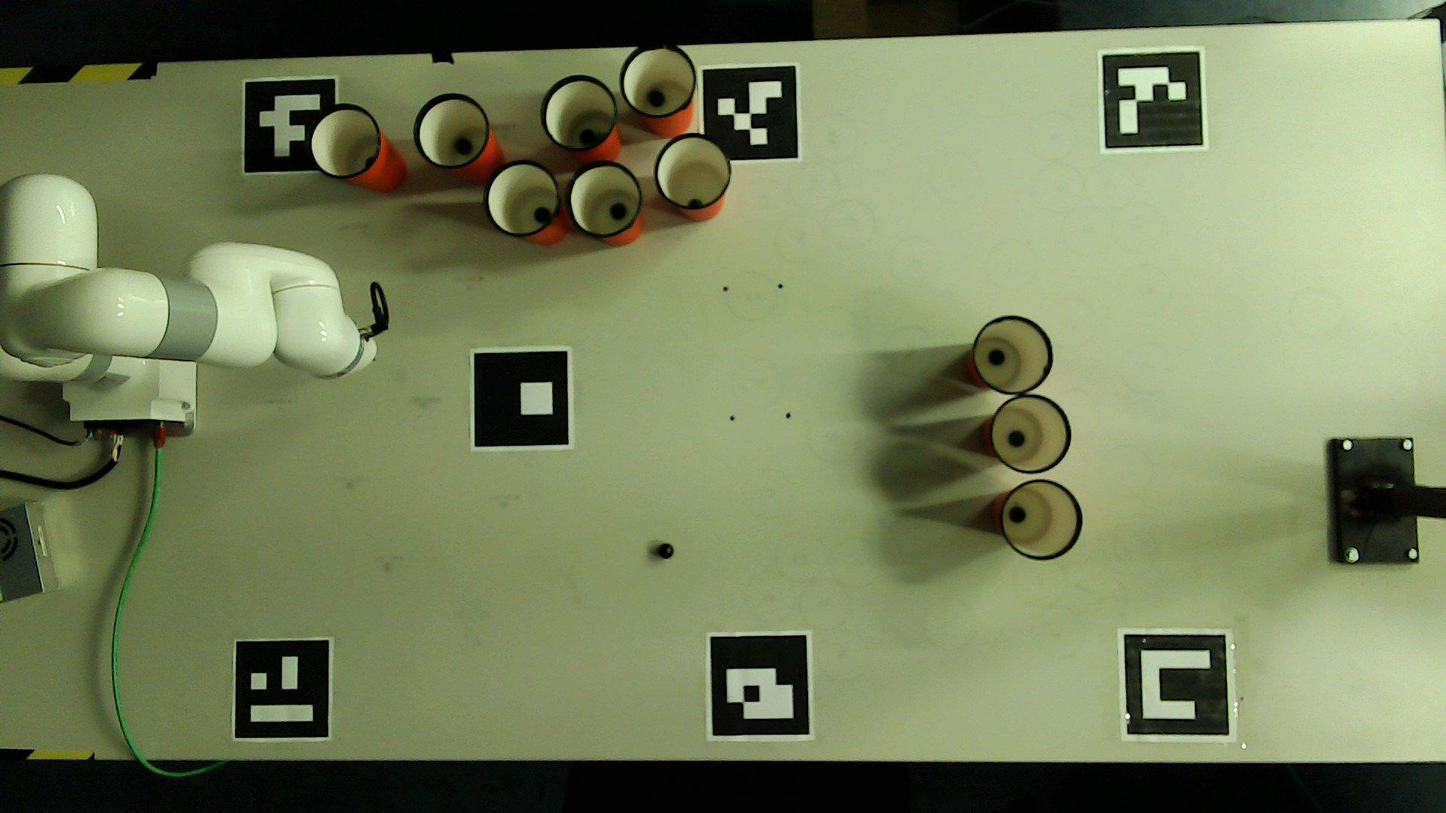ball: (534, 208, 551, 224), (647, 91, 665, 106), (612, 204, 628, 220), (455, 139, 471, 154), (989, 350, 1004, 365), (580, 130, 596, 144), (660, 544, 674, 558), (1011, 507, 1024, 522), (1010, 432, 1023, 446)
cup: (974, 316, 1052, 394), (1002, 481, 1081, 558), (992, 396, 1069, 472), (485, 161, 558, 235), (656, 135, 730, 208), (543, 77, 617, 150), (567, 163, 639, 236), (416, 95, 488, 167), (309, 105, 379, 178), (622, 46, 695, 116)
